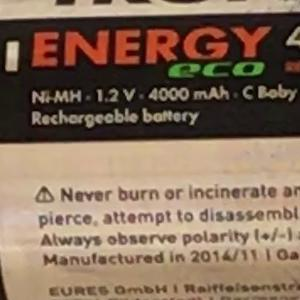keyword: (23, 81, 86, 112)
